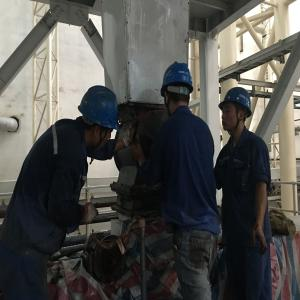blue: (81, 84, 125, 153), (161, 61, 195, 112), (219, 88, 252, 134)
